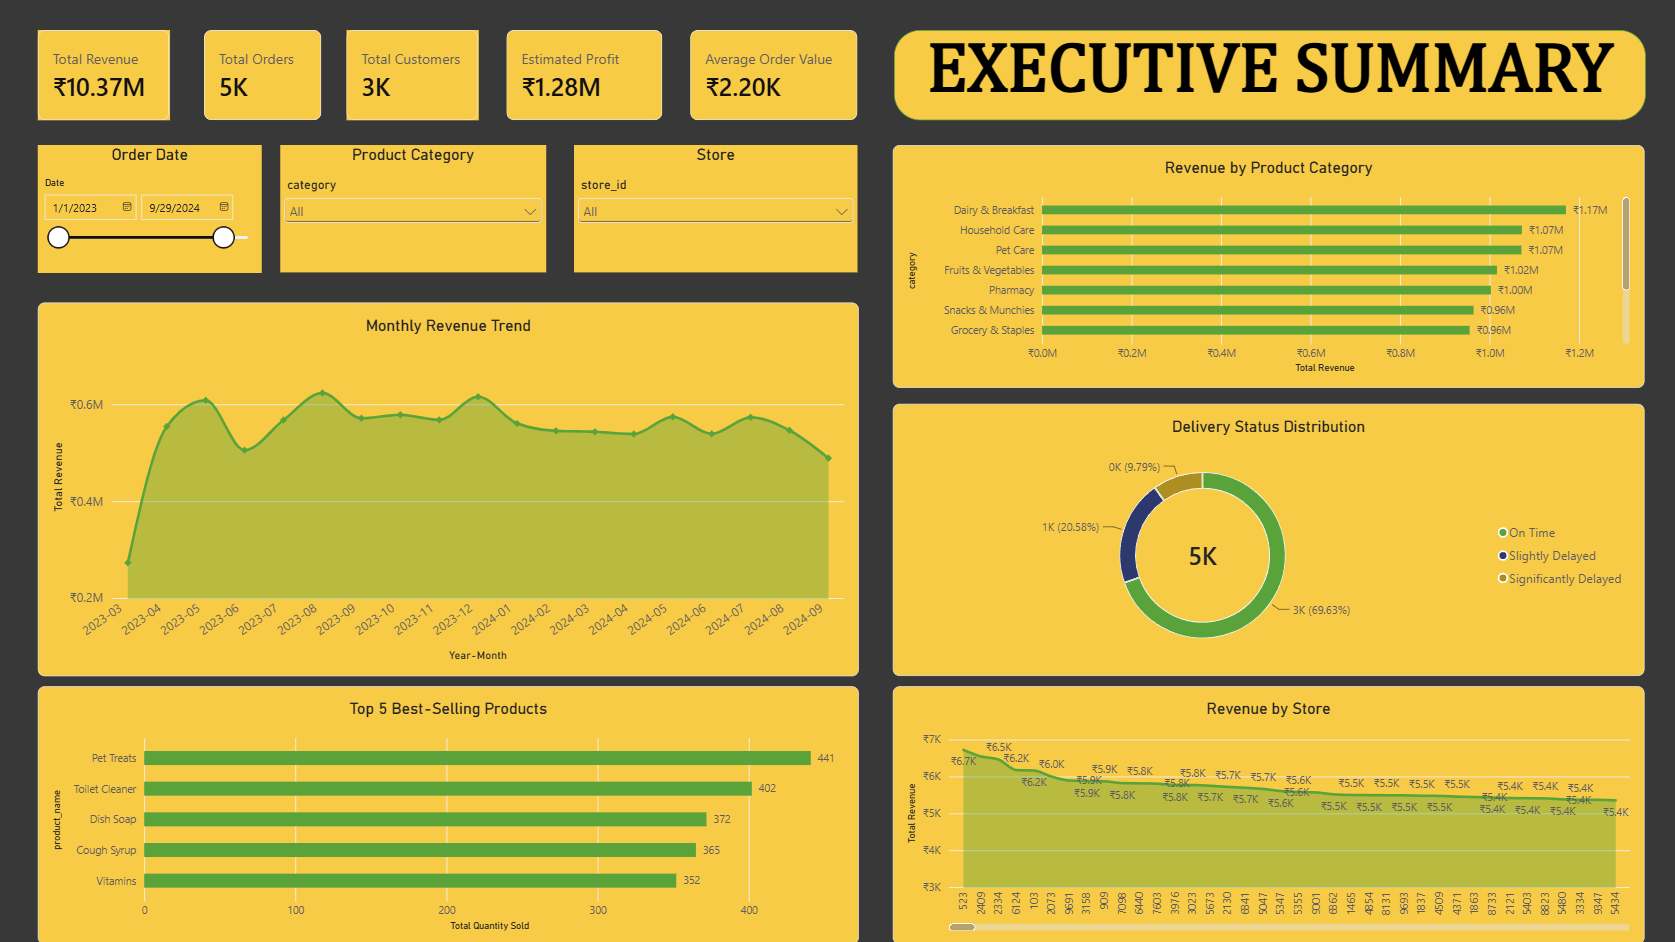

The dashboard page shown, as its layout file describes it:
{"tool":"powerbi","page":{"name":"EXECUTIVE SUMMARY","canvas":[1920,1080],"ordinal":0},"visuals":[{"type":"cardVisual","fields":{"Data":["blinkit_orders.Total Revenue"]},"box":[44.2,35,150.9,103.1],"z":0},{"type":"cardVisual","fields":{"Data":["blinkit_orders.Total Orders"]},"box":[233.7,35,134.4,103.1],"z":1000},{"type":"cardVisual","fields":{"Data":["blinkit_customers.Total Customers"]},"box":[397.5,35,150.9,103.1],"z":2000},{"type":"cardVisual","fields":{"Data":["blinkit_order_items.Estimated Profit"]},"box":[579.8,35,178.5,103.1],"z":3000},{"type":"cardVisual","fields":{"Data":["blinkit_orders.Average Order Value"]},"box":[789.6,35,191.4,103.1],"z":4000},{"type":"lineChart","title":"Monthly Revenue Trend","fields":{"Category":["DateTable.Year-Month"],"Y":["blinkit_orders.Total Revenue"]},"box":[44.2,346,938.7,427],"z":5000},{"type":"clusteredBarChart","title":"Revenue by Product Category","fields":{"Category":["blinkit_products.category"],"Y":["blinkit_orders.Total Revenue"]},"box":[1021.5,165.6,859.5,277.9],"z":6000},{"type":"clusteredBarChart","title":"Top 5 Best-Selling Products","fields":{"Category":["blinkit_products.product_name"],"Y":["blinkit_order_items.Total Quantity Sold"]},"box":[44.2,784.1,938.7,296.3],"z":7000},{"type":"donutChart","title":"Delivery Status Distribution","fields":{"Category":["blinkit_delivery_performance.delivery_status"],"Y":["blinkit_delivery_performance.Total Deliveries"]},"box":[1021.5,462,859.5,311],"z":8000},{"type":"areaChart","title":"Revenue by Store","fields":{"Category":["blinkit_orders.store_id"],"Y":["blinkit_orders.Total Revenue"]},"box":[1021.5,784.1,859.5,296.3],"z":9000},{"type":"slicer","title":"Order Date","fields":{"Values":["DateTable.Date"]},"box":[44.2,165.6,255.8,145.4],"z":10000},{"type":"slicer","title":"Product Category","fields":{"Values":["blinkit_products.category"]},"box":[322.1,165.6,303.7,145.4],"z":11000},{"type":"slicer","title":"Store","fields":{"Values":["blinkit_orders.store_id"]},"box":[657.1,165.6,323.9,145.4],"z":12000},{"type":"textbox","box":[1023.3,35,859.5,103.1],"z":13000}]}

Visuals, with their boxes in screenshot pixels (x1, y1, x2, y2), scaled from the page's 1920x1080 canvas onto the 1675x942 screenshot:
cardVisual - blinkit_orders.Total Revenue: locate(39, 31, 170, 120)
cardVisual - blinkit_orders.Total Orders: locate(204, 31, 321, 120)
cardVisual - blinkit_customers.Total Customers: locate(347, 31, 478, 120)
cardVisual - blinkit_order_items.Estimated Profit: locate(506, 31, 662, 120)
cardVisual - blinkit_orders.Average Order Value: locate(689, 31, 856, 120)
"Monthly Revenue Trend" lineChart: locate(39, 302, 857, 674)
"Revenue by Product Category" clusteredBarChart: locate(891, 144, 1641, 387)
"Top 5 Best-Selling Products" clusteredBarChart: locate(39, 684, 857, 941)
"Delivery Status Distribution" donutChart: locate(891, 403, 1641, 674)
"Revenue by Store" areaChart: locate(891, 684, 1641, 941)
"Order Date" slicer: locate(39, 144, 262, 271)
"Product Category" slicer: locate(281, 144, 546, 271)
"Store" slicer: locate(573, 144, 856, 271)
textbox: locate(893, 31, 1643, 120)
